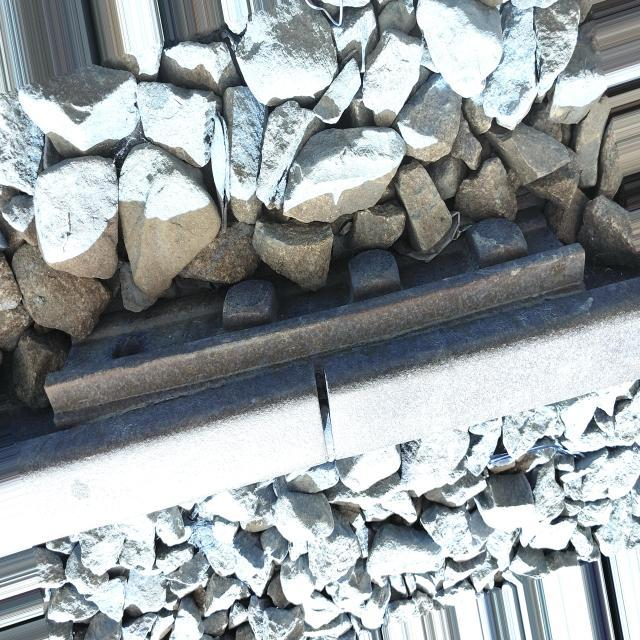Defective Joint: (44, 206, 585, 430)
